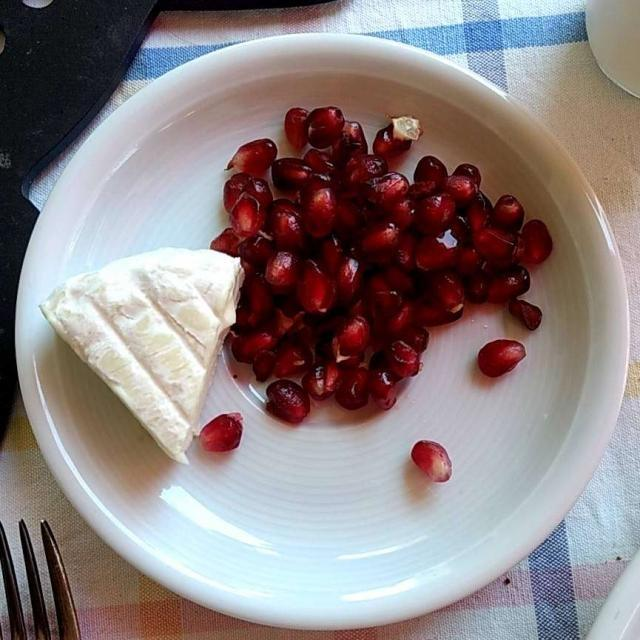cheese: (31, 255, 241, 471)
pomegranate: (225, 107, 544, 418)
